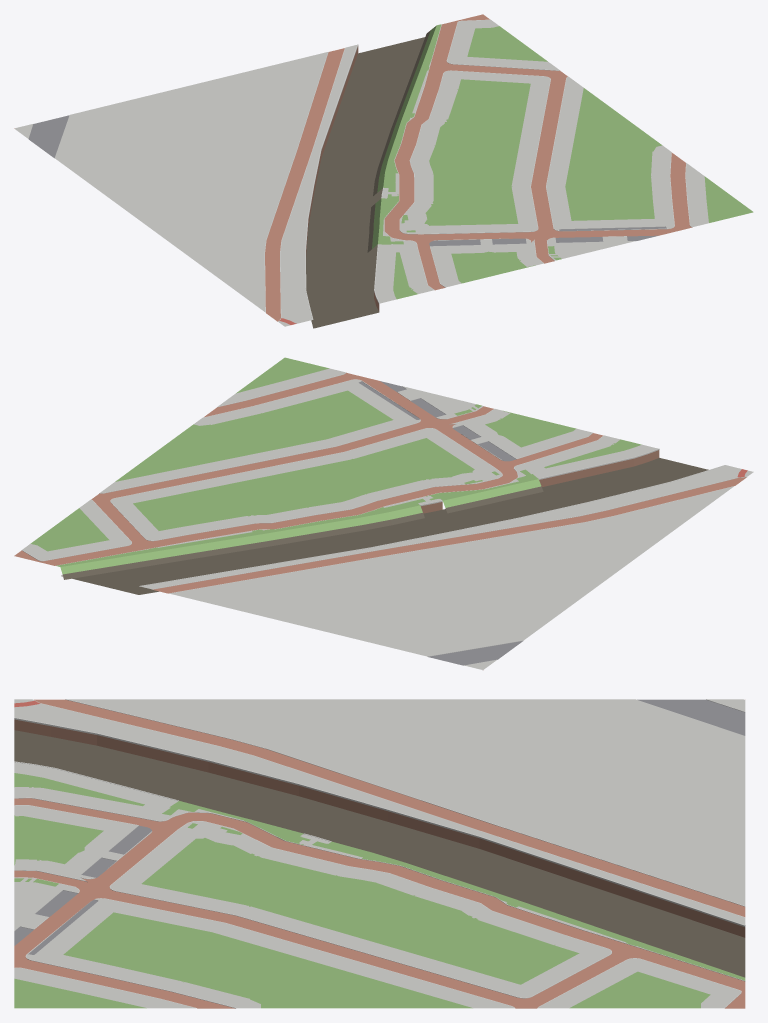
Rendered from ground_11_7.glb.
3 views of the same model, one above another, from view 1: azimuth 30°, elevation 25°; view 2: azimuth 150°, elevation 25°; view 3: azimuth 270°, elevation 25° (orthographic). The views are drawn at different scales.
Parts seen in each view (by area): view 1: ground_11_7; view 2: ground_11_7; view 3: ground_11_7.
Part boxes in pixels (bbox=[...]): ground_11_7: bbox=[14, 14, 753, 328]; ground_11_7: bbox=[14, 357, 753, 670]; ground_11_7: bbox=[14, 699, 745, 1008].
Bounding box in the file's own units: 200 × 3.68 × 202.
